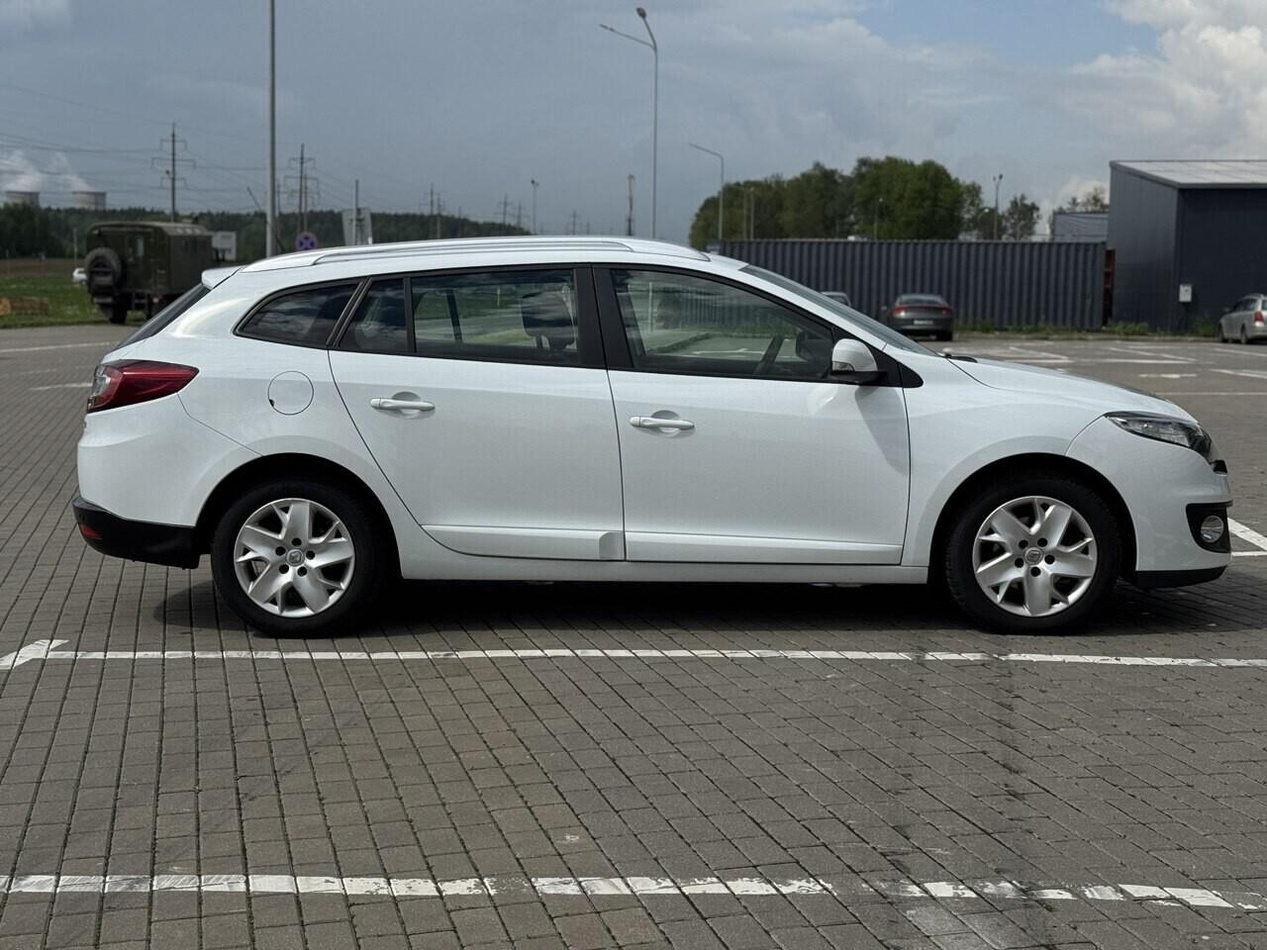Megane_2012-2014: (54, 229, 1253, 654)
